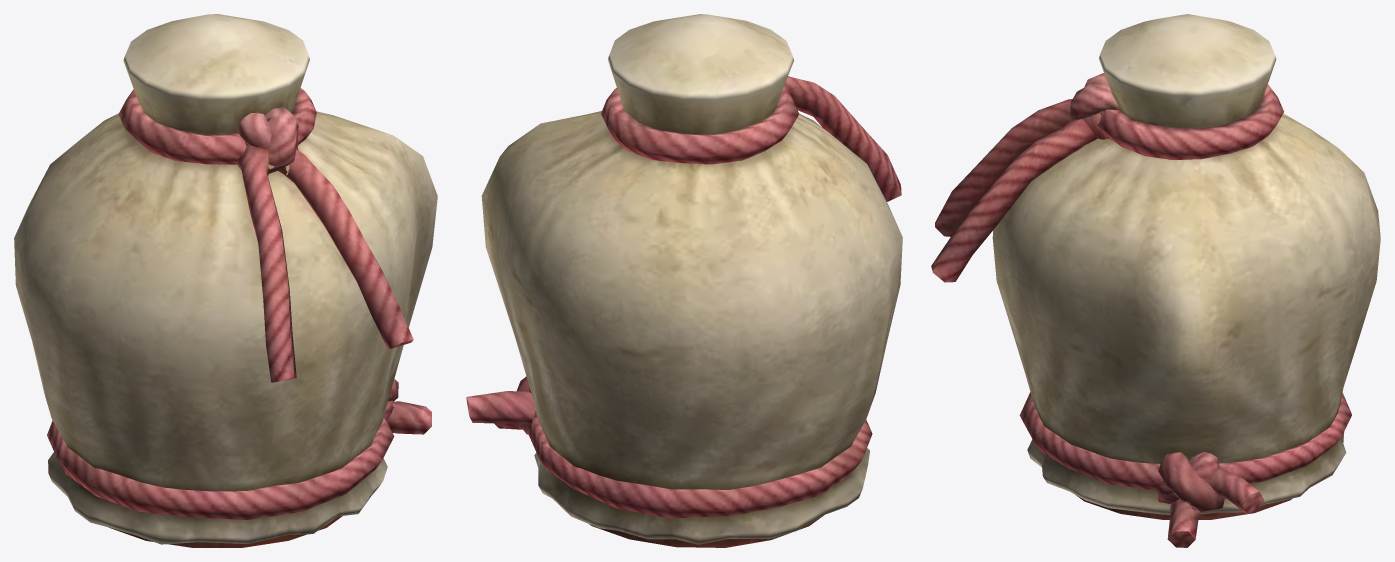
3 views of the same model, side by side, from view 1: azimuth 30°, elevation 25°; view 2: azimuth 150°, elevation 25°; view 3: azimuth 270°, elevation 25° (orthographic). The views are drawn at different scales.
Visible parts, largest first — view 1: SM_Throwable_FireOil_LOD0; view 2: SM_Throwable_FireOil_LOD0; view 3: SM_Throwable_FireOil_LOD0.
Boxes of the visible parts, box(x1,y1,x2,y2) form: SM_Throwable_FireOil_LOD0: box(14, 14, 437, 547); SM_Throwable_FireOil_LOD0: box(466, 14, 902, 547); SM_Throwable_FireOil_LOD0: box(931, 14, 1380, 547).
Bounding box in the file's own units: 0.2624 × 0.3056 × 0.2817.
1 material, 1 textured.
